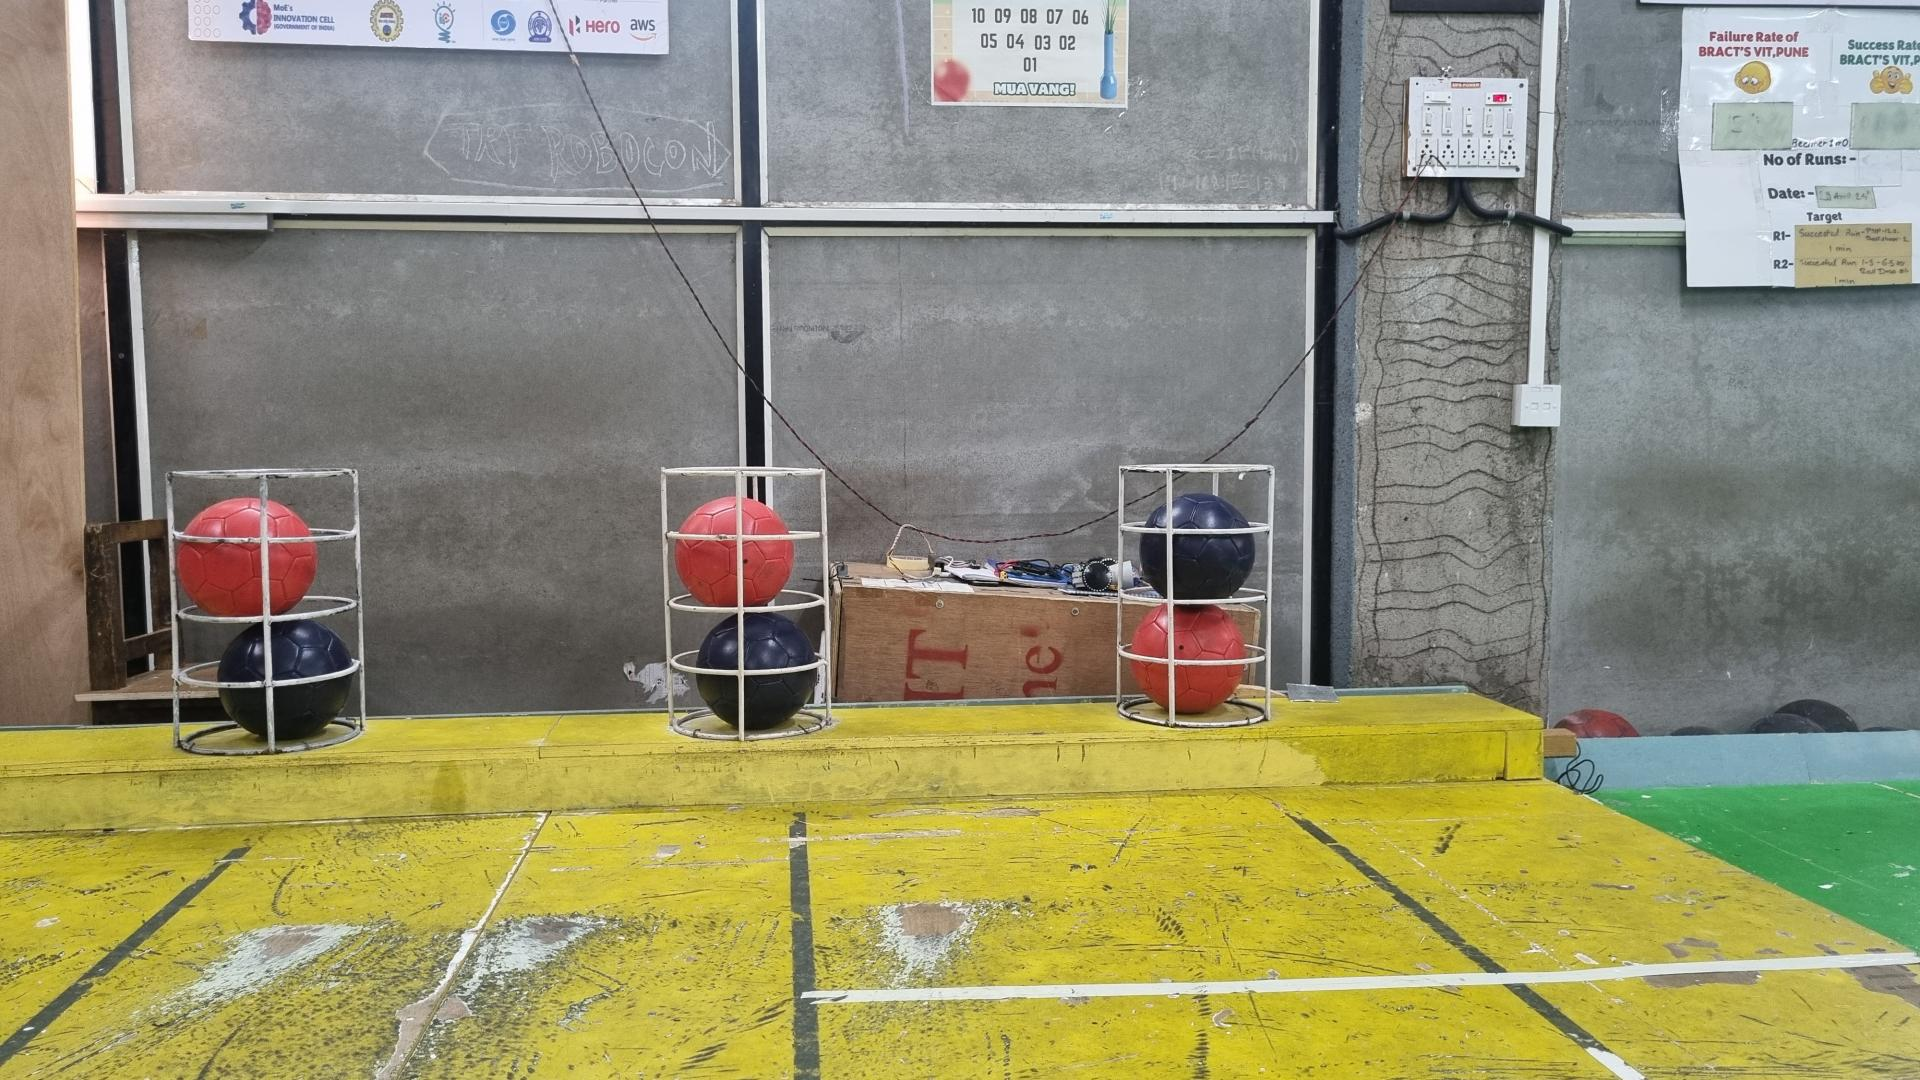dhoka: (218, 618, 356, 742), (694, 615, 818, 735), (1139, 495, 1257, 603)
laale: (177, 498, 319, 618), (675, 495, 795, 607), (1129, 607, 1245, 716)
